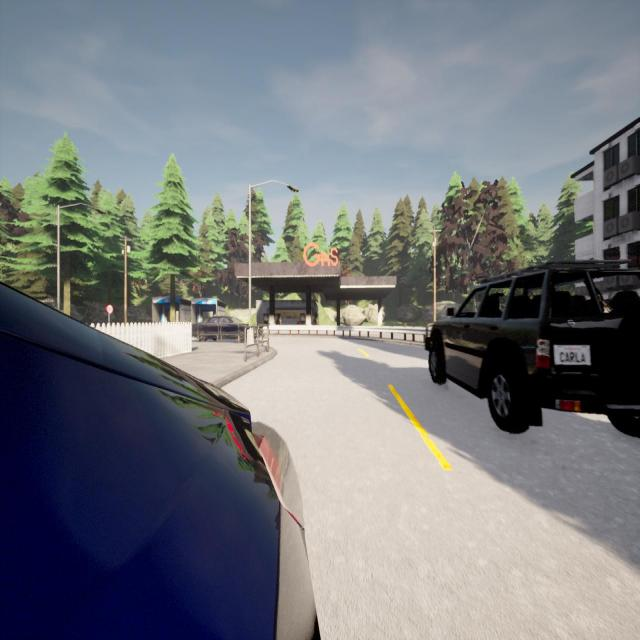Traffic_Signs: (106, 304, 113, 314)
Vehicle: (0, 279, 318, 640), (426, 261, 640, 436), (192, 316, 263, 343)
